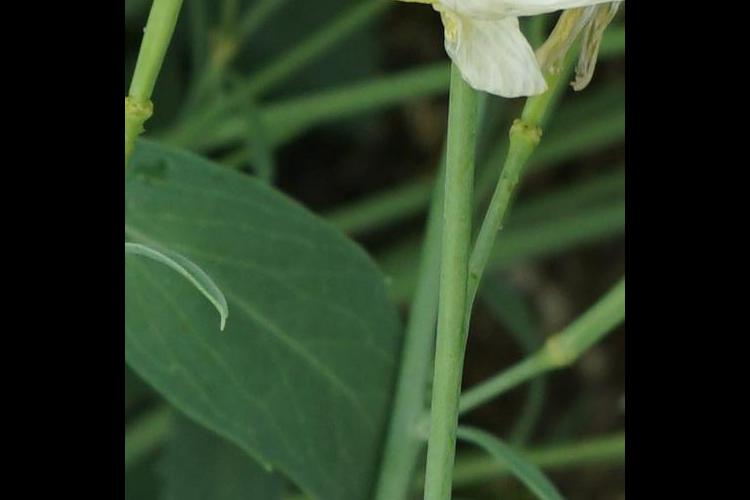white: (255, 1, 610, 98)
